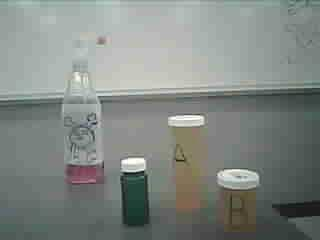Bottle A: (163, 112, 215, 214)
Bottle B: (217, 170, 263, 232)
Bottle C: (118, 156, 154, 225)
hazard: (61, 30, 112, 188)
